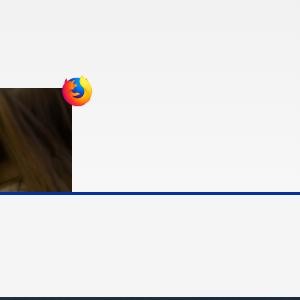firefox: (62, 75, 92, 106)
